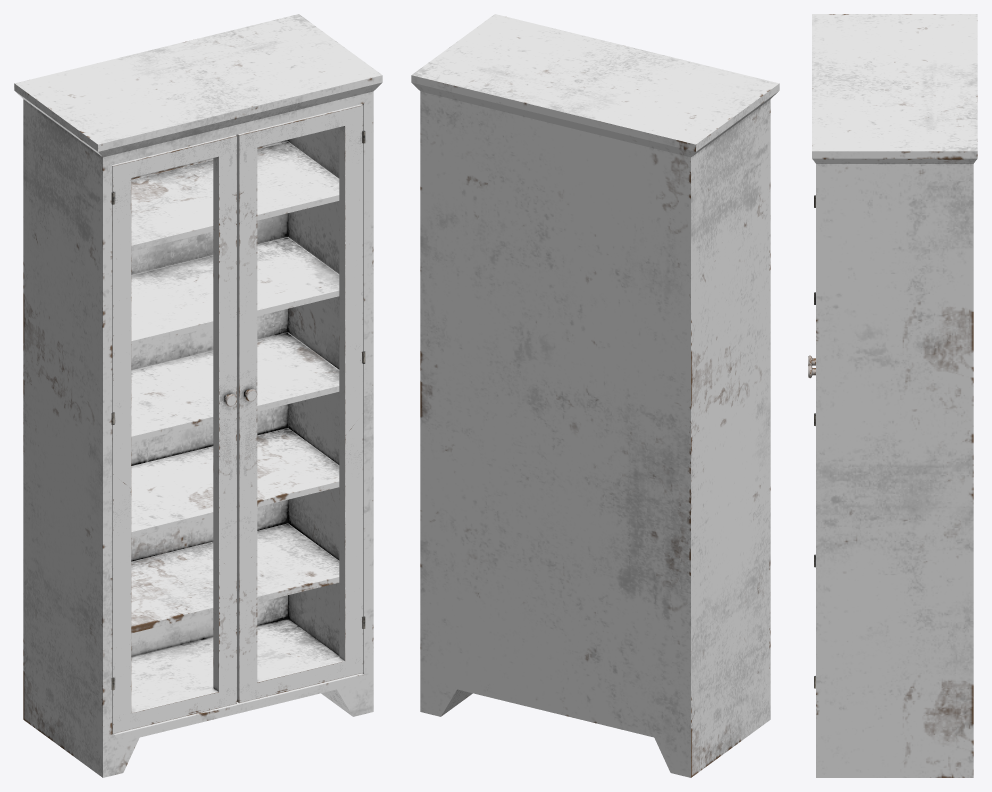
Rendered from MedRack_Alt_AA.fbx.
3 renders of one model, left to right at view 1: azimuth 30°, elevation 25°; view 2: azimuth 150°, elevation 25°; view 3: azimuth 270°, elevation 25°, orthographic.
Parts seen in each view (by area): view 1: MedRack.001, MedRackDoor_R.001, MedRackDoor_L.001; view 2: MedRack.001; view 3: MedRack.001.
Part boxes in pixels (x1,y1,x2,y2): MedRack.001: (14,14,382,777); MedRackDoor_R.001: (236,104,365,702); MedRackDoor_L.001: (111,135,236,733); MedRack.001: (411,14,779,777); MedRack.001: (812,14,977,777).
Size of the model in its own units: 1.02 by 0.5334 by 2.19.
